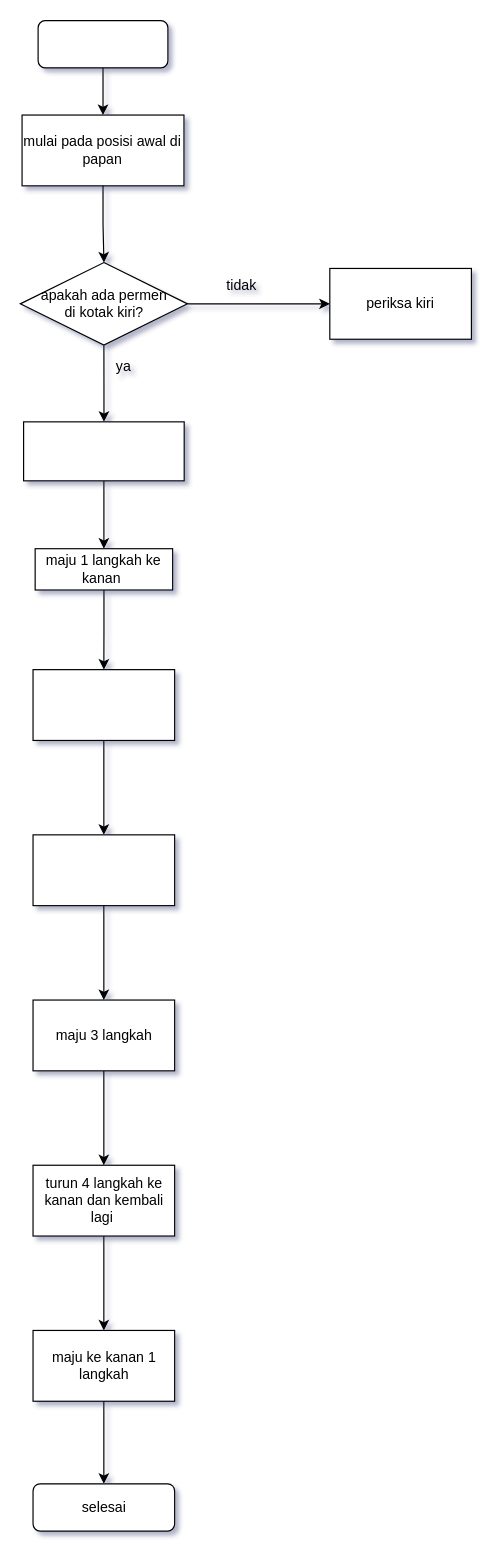
The diagram is 500 pixels wide and 1559 high, and some of its shapes have lost their labels. The centre of each missing label's shape, as x and y in pixels:
2 langkah ke kiri dan 1 langkah ke kiri: (103,704)
maju 2 kotak: (103,451)
mulai: (102,43)
mundur 1 langkah ke kanan dan mundur 1 langkah lagi: (103,870)
